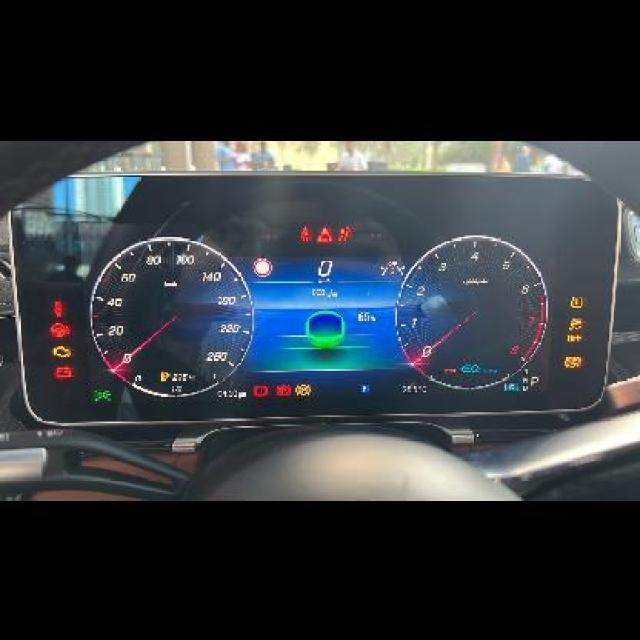Electronic Power Steering: (44, 320, 74, 340)
Seat Belt: (298, 226, 311, 242)
